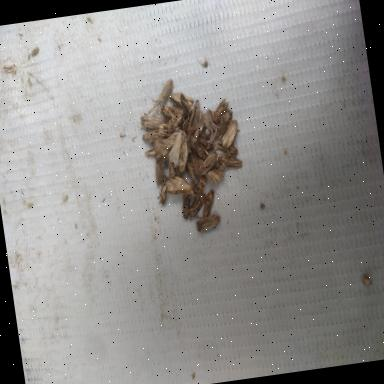pbw: (163, 174, 196, 198), (198, 188, 222, 220), (138, 110, 170, 134), (184, 98, 204, 134), (218, 118, 242, 148), (213, 110, 237, 138), (194, 210, 222, 234), (174, 139, 192, 175), (160, 130, 184, 156), (149, 157, 171, 184), (186, 192, 207, 220), (154, 174, 172, 206), (198, 148, 220, 174), (214, 137, 240, 157), (210, 98, 230, 123), (170, 88, 193, 109), (176, 192, 192, 222), (160, 102, 180, 126), (178, 92, 192, 122), (140, 128, 166, 144), (218, 153, 242, 170), (156, 79, 174, 101), (189, 122, 205, 146), (206, 170, 226, 188), (156, 122, 176, 138), (196, 174, 209, 198), (204, 108, 218, 130), (196, 134, 213, 152), (167, 156, 178, 178), (192, 146, 206, 160), (190, 152, 198, 173), (144, 148, 159, 158)
